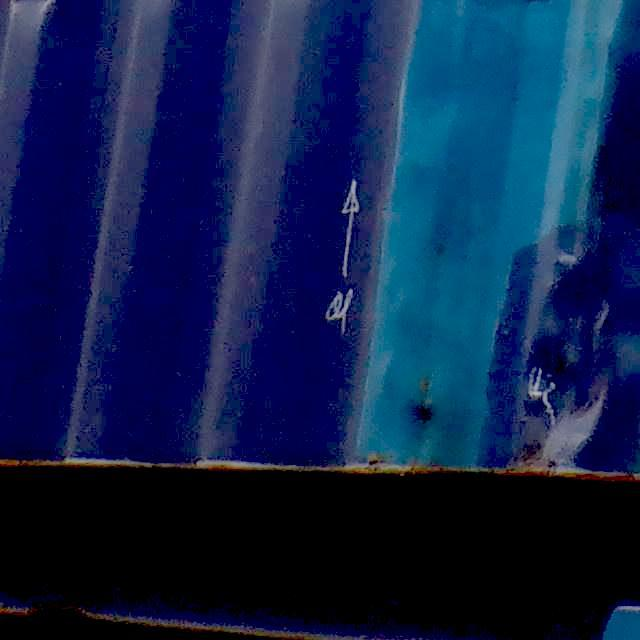dent: (354, 206, 640, 466)
